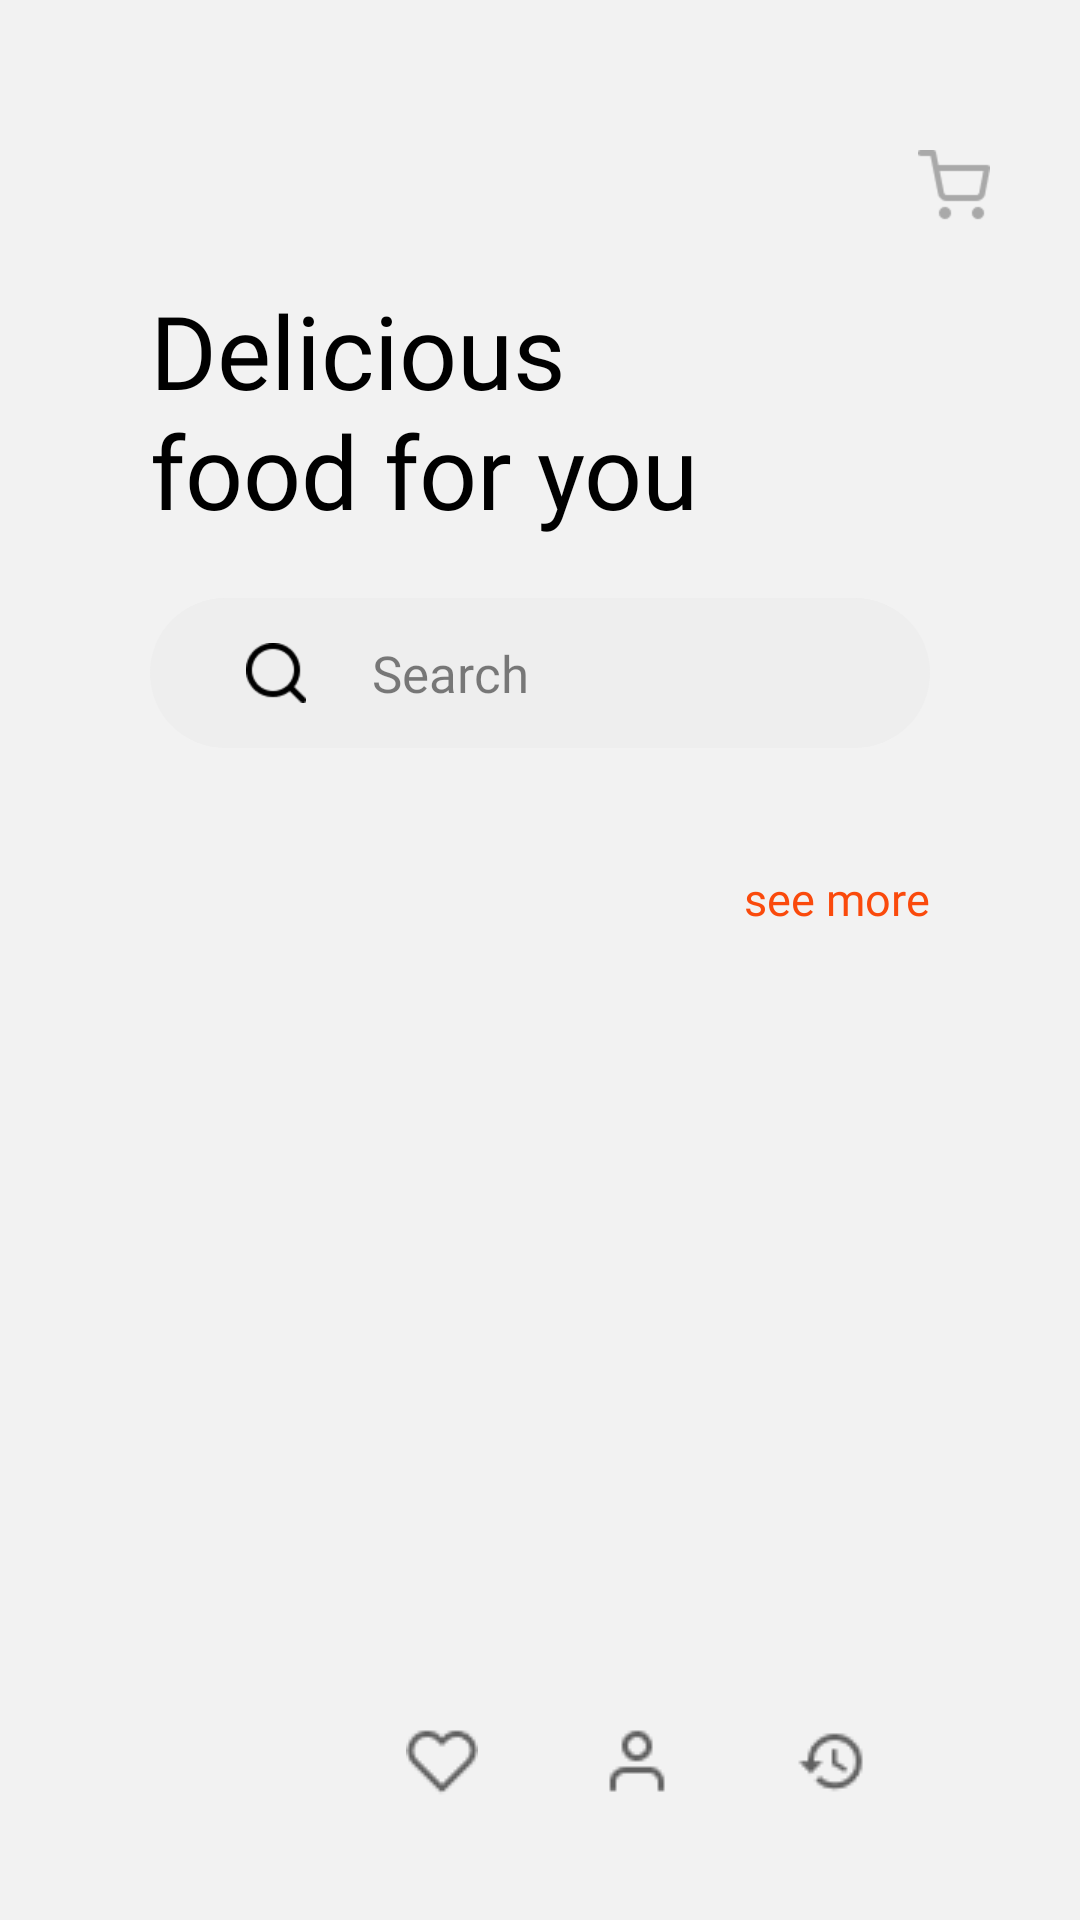

Named icons in this screenshot (1080 × 1920) and their bounding boxes, (x1, y1, x2, y2):
cart: (918, 150, 990, 219)
